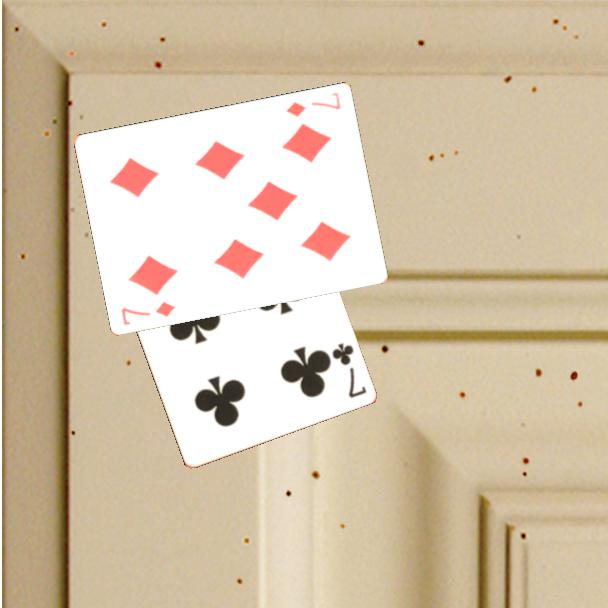c07: (328, 339, 369, 401)
d07: (283, 88, 344, 119), (118, 297, 178, 328)
